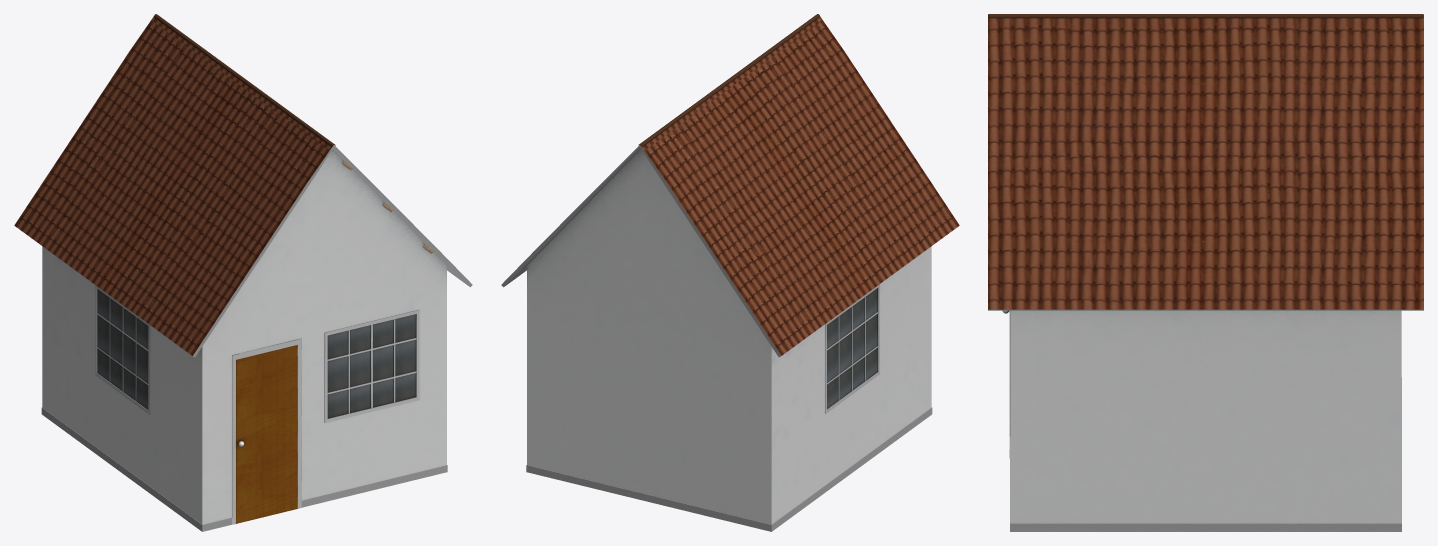
The model's file is CasaSimples.fbx.
The picture shows the model from 3 angles, left to right: view 1: azimuth 30°, elevation 25°; view 2: azimuth 150°, elevation 25°; view 3: azimuth 270°, elevation 25°; orthographic projection. The views are drawn at different scales.
Parts seen in each view (by area): view 1: default; view 2: default; view 3: default.
Boxes of the visible parts, bbox=[...] form: default: bbox=[14, 14, 472, 531]; default: bbox=[501, 14, 959, 531]; default: bbox=[988, 14, 1423, 531].
Size of the model in its own units: 7.28 by 9.05 by 8.03.
